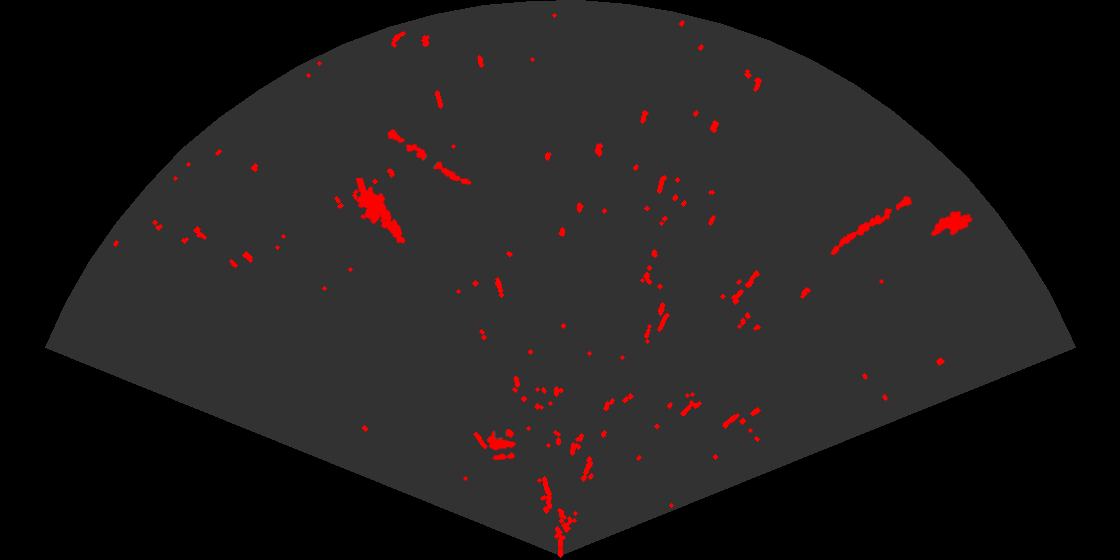AUV: (929, 209, 975, 238)
ball: (485, 427, 518, 462)
chain: (829, 195, 914, 257), (386, 128, 473, 186)
frogman: (354, 178, 407, 245)
